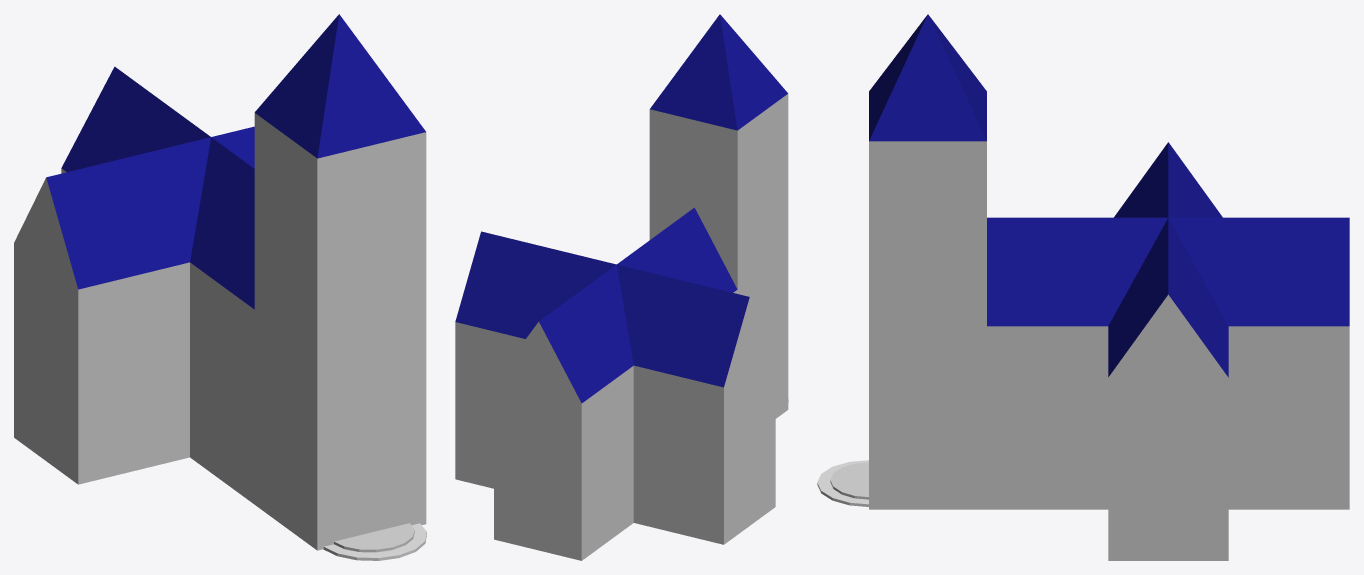
File: Church.fbx
3 renders of one model, left to right at view 1: azimuth 30°, elevation 25°; view 2: azimuth 150°, elevation 25°; view 3: azimuth 270°, elevation 25°, orthographic. The views are drawn at different scales.
Visible parts, largest first — view 1: Cube, Cylinder.001, Cylinder; view 2: Cube; view 3: Cube, Cylinder.001, Cylinder.
Boxes of the visible parts, x1,y1,x2,y2 form: Cube: (14,14,426,550); Cylinder.001: (334,523,414,552); Cylinder: (323,523,426,560); Cube: (455,14,788,560); Cube: (869,14,1349,560); Cylinder.001: (830,462,868,499); Cylinder: (817,460,868,506).
Size of the model in its own units: 1787 by 2569 by 2635.
